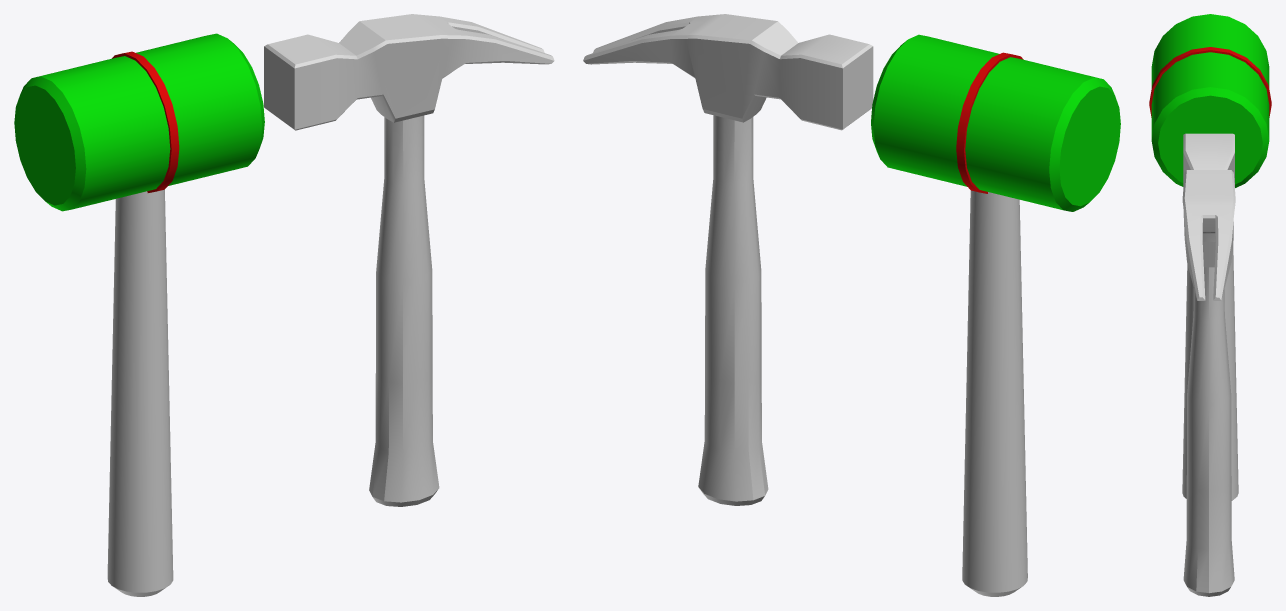
File: HammerTools.fbx
3 views of the same model, side by side, from view 1: azimuth 30°, elevation 25°; view 2: azimuth 150°, elevation 25°; view 3: azimuth 270°, elevation 25° (orthographic). The views are drawn at different scales.
Visible parts, largest first — view 1: Top, Handle, Base, Head; view 2: Top, Handle, Base, Head; view 3: Top, Base, Head, Handle.
Boxes of the visible parts, bbox=[...] form: Top: bbox=[14, 33, 264, 211]; Handle: bbox=[107, 189, 173, 596]; Base: bbox=[369, 115, 439, 506]; Head: bbox=[264, 14, 554, 130]; Top: bbox=[871, 34, 1120, 211]; Handle: bbox=[962, 190, 1027, 596]; Base: bbox=[698, 115, 768, 505]; Head: bbox=[583, 14, 873, 130]; Top: bbox=[1149, 14, 1271, 187]; Base: bbox=[1183, 267, 1234, 596]; Head: bbox=[1182, 133, 1235, 300]; Handle: bbox=[1182, 245, 1238, 500].
Bounding box in the file's own units: 6.1 × 6.16 × 1.51.
